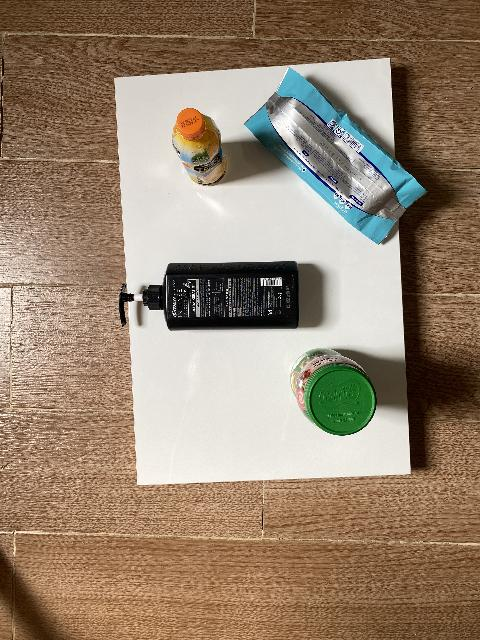Let-green_alcohol_wipes: (244, 68, 427, 245)
X-men: (119, 261, 299, 331)
milo: (290, 348, 377, 436)
teppy_orange_juice: (171, 108, 228, 188)
